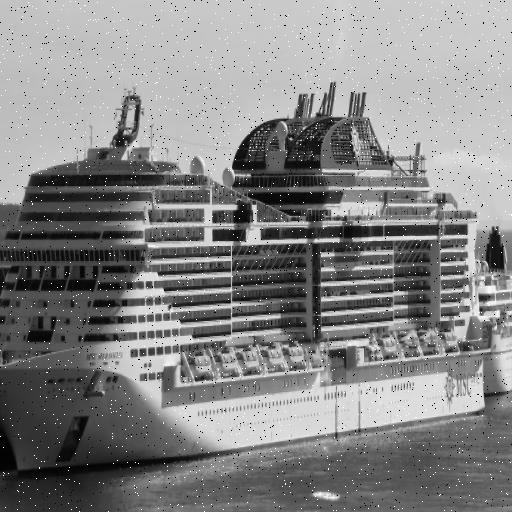cruises: (1, 77, 494, 482)
